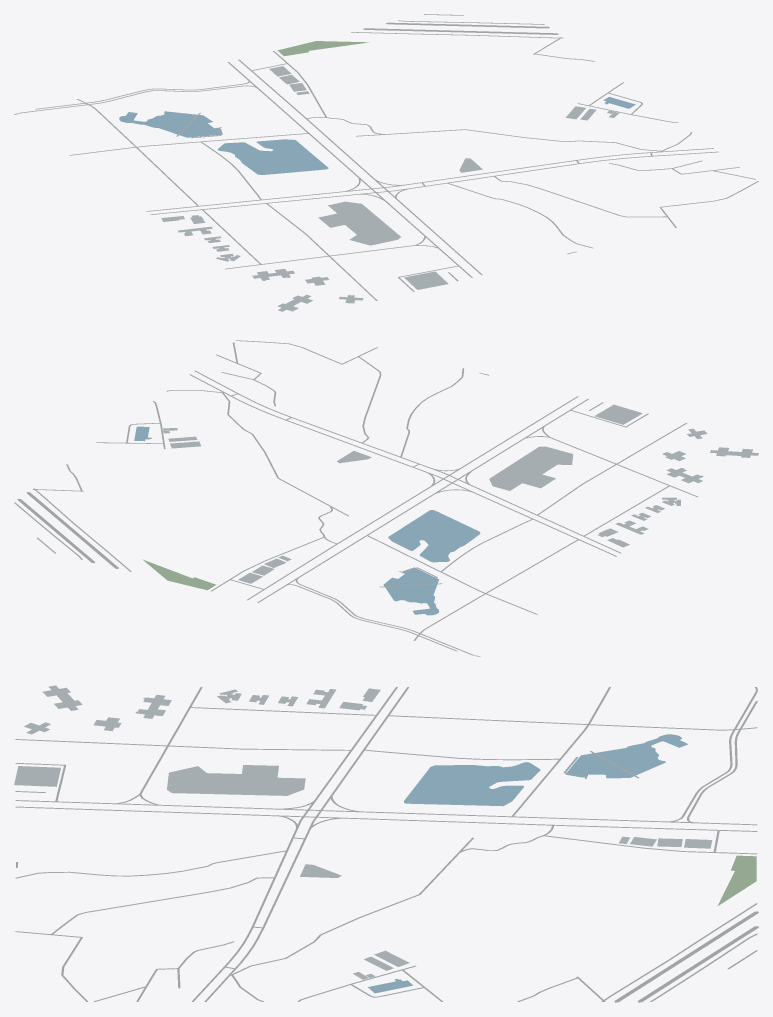
The model's file is -21_22-known-fine.glb.
3 renders of one model, top to bottom at view 1: azimuth 30°, elevation 25°; view 2: azimuth 150°, elevation 25°; view 3: azimuth 270°, elevation 25°, orthographic. The views are drawn at different scales.
Size of the model in its own units: 1008 by 0.15 by 1000.
